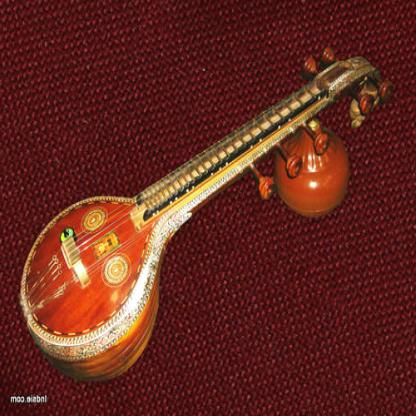Veena: (16, 151, 222, 381)
